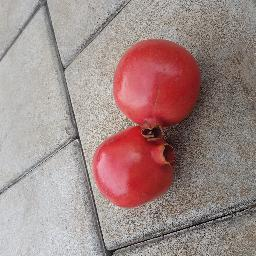Good_pomegranate: (107, 36, 201, 134), (89, 131, 191, 206)
